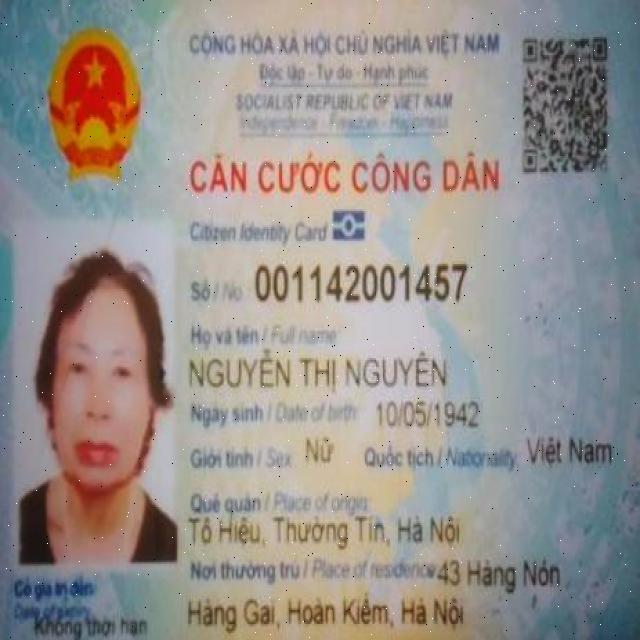current_place: (187, 594, 467, 636), (437, 556, 563, 594)
dob: (377, 397, 482, 429)
expire_date: (30, 612, 151, 640)
gender: (303, 438, 335, 462)
id: (256, 261, 471, 306)
name: (189, 346, 448, 394)
nationality: (525, 427, 615, 470)
origin_place: (186, 513, 464, 548)
qr: (516, 26, 616, 180)
